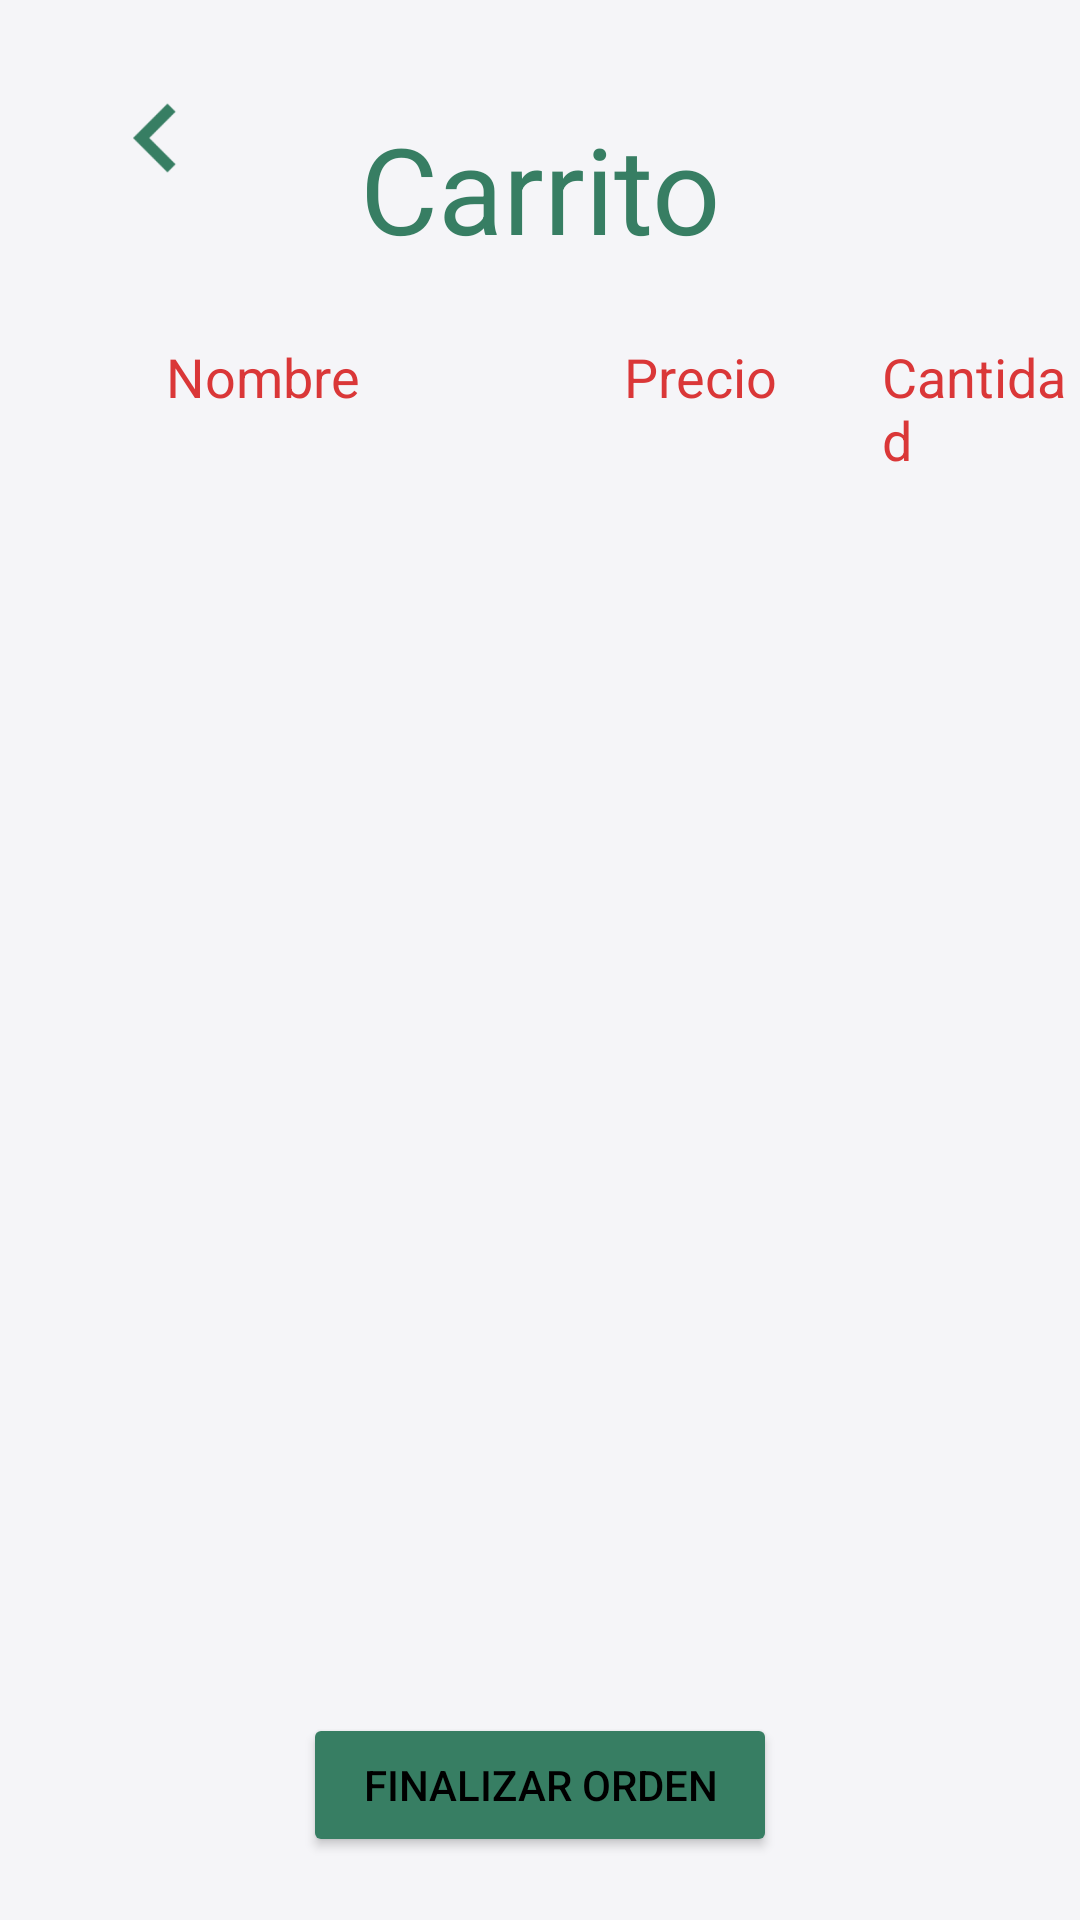

Named icons in this screenshot (1080×1920) and their centers, point (x, y):
back: point (154, 138)
